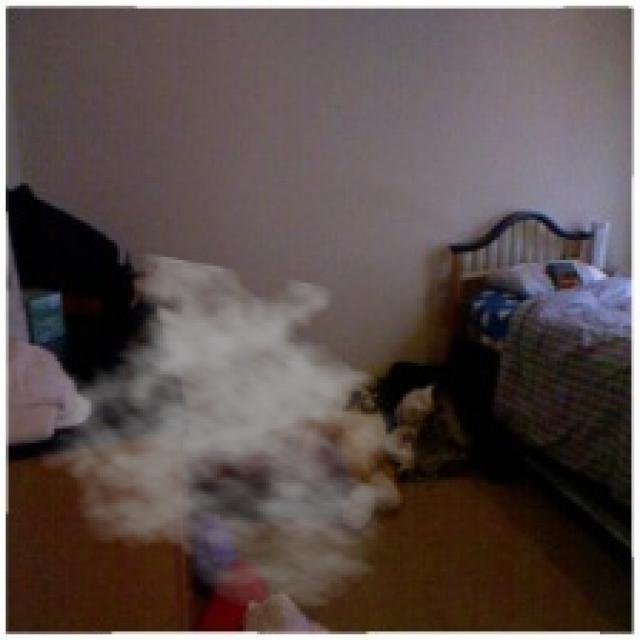smoke: (34, 252, 440, 614)
